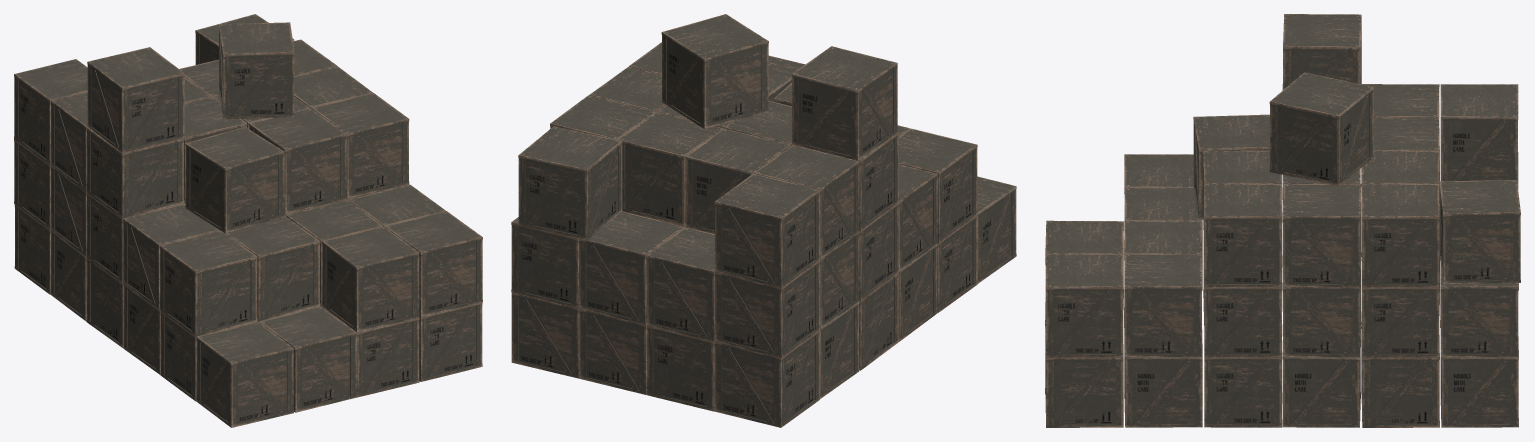
File: SM_Crate_Stack_01.fbx
3 views of the same model, side by side, from view 1: azimuth 30°, elevation 25°; view 2: azimuth 150°, elevation 25°; view 3: azimuth 270°, elevation 25° (orthographic). The views are drawn at different scales.
Visible parts, largest first — view 1: SM_Crate_Stack_01_LOD0; view 2: SM_Crate_Stack_01_LOD0; view 3: SM_Crate_Stack_01_LOD0.
Boxes of the visible parts, x1,y1,x2,y2 form: SM_Crate_Stack_01_LOD0: (14,14,482,427); SM_Crate_Stack_01_LOD0: (511,14,1016,427); SM_Crate_Stack_01_LOD0: (1045,14,1520,427).
Bounding box in the file's own units: 284 × 429 × 280.
1 material, 1 textured.
